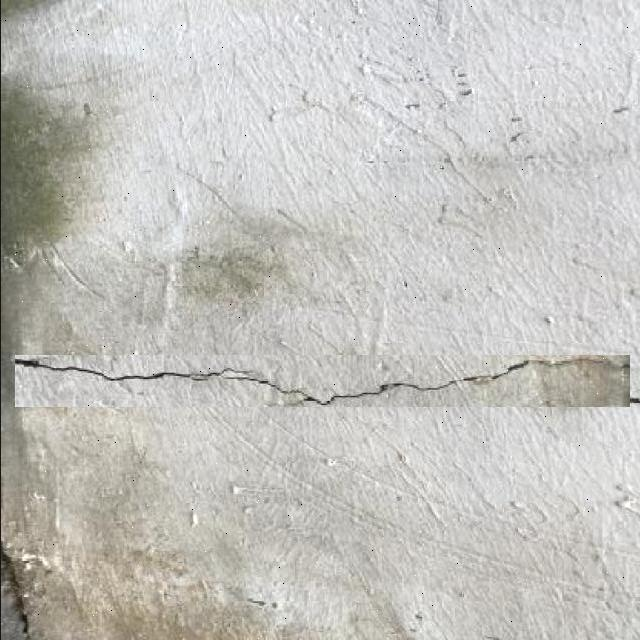crack: (11, 351, 633, 409), (18, 361, 277, 391)
